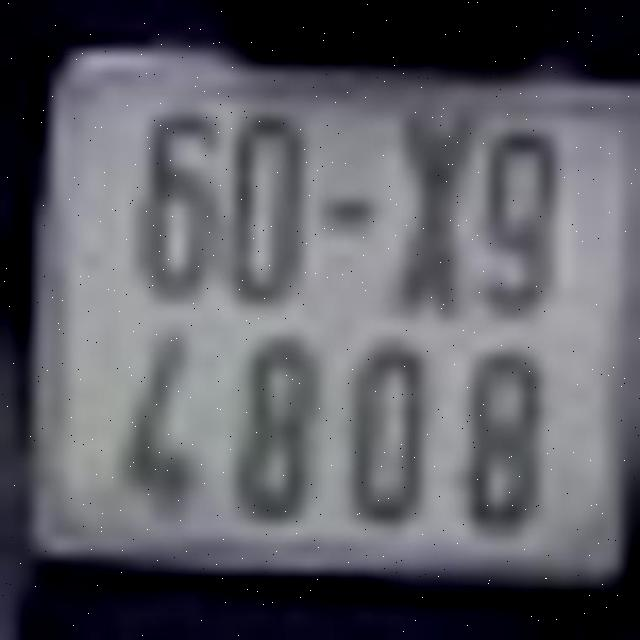0: (229, 111, 303, 306), (350, 338, 426, 526)
4: (128, 331, 196, 524)
6: (146, 108, 220, 303)
8: (238, 333, 314, 524), (467, 347, 542, 535)
9: (483, 126, 556, 319)
X: (397, 111, 471, 320)
